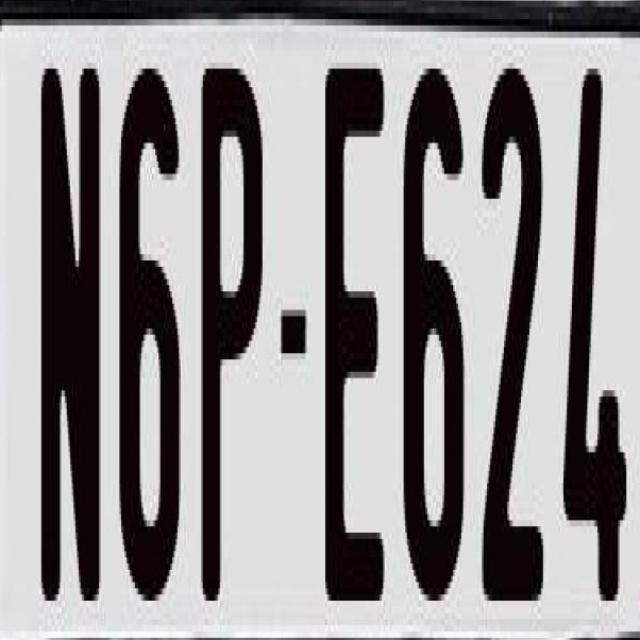license-plate: (8, 2, 640, 632)
